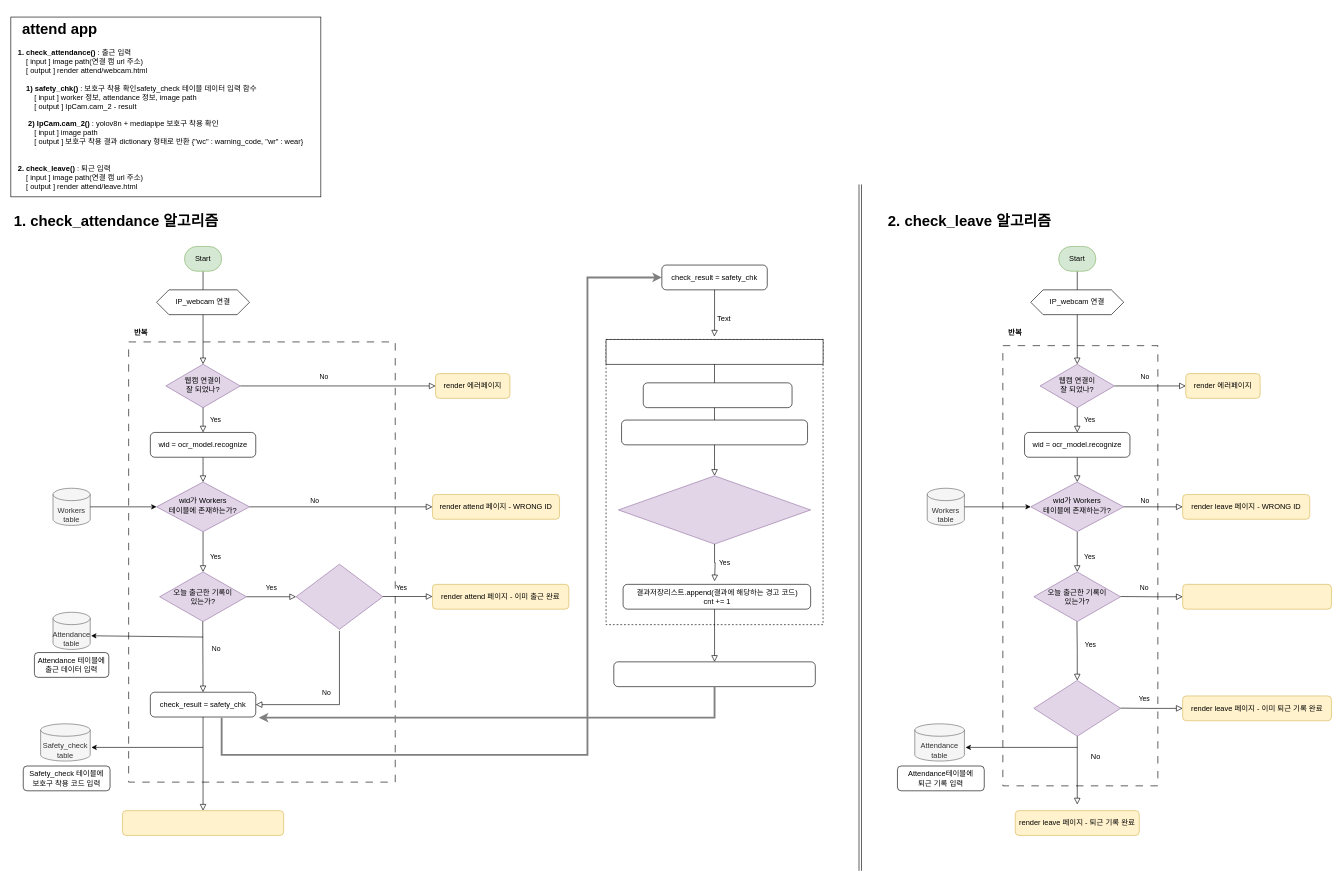
Some shapes in this 1342 by 882 pixel diagram are drawn without their labels. The centre of each missing label's shape, as x and y in pixels:
"[ 반복 : cnt=0에서 cnt<5일 때까지 ] IpCam.cam_2" goes at point 714,351.
"check_yolo(image) - 보호구 bounding boxes 좌표 추출" goes at point 714,432.
"media_pipe(image) - 필요 좌표 추출" goes at point 717,395.
"render attend 페이지 - 출근, 보호구 기록 완료" goes at point 203,822.
"render leave 페이지 - 출근하지 않은 작업자" goes at point 1256,596.
"결과 저장 리스트에서 가장 많이 저장된 경고코드 return" goes at point 714,674.
"보호구를 정확한 위치에 착용하였는가? (media_pipe 좌표들로 만든 영역 내에 각 bounding box의 중앙점이 존재하는가)" goes at point 714,509.
"오늘 보호구 착용 판단 기록이 있는가?" goes at point 339,596.
"오늘 퇴근한 기록이 있는가?" goes at point 1077,708.
